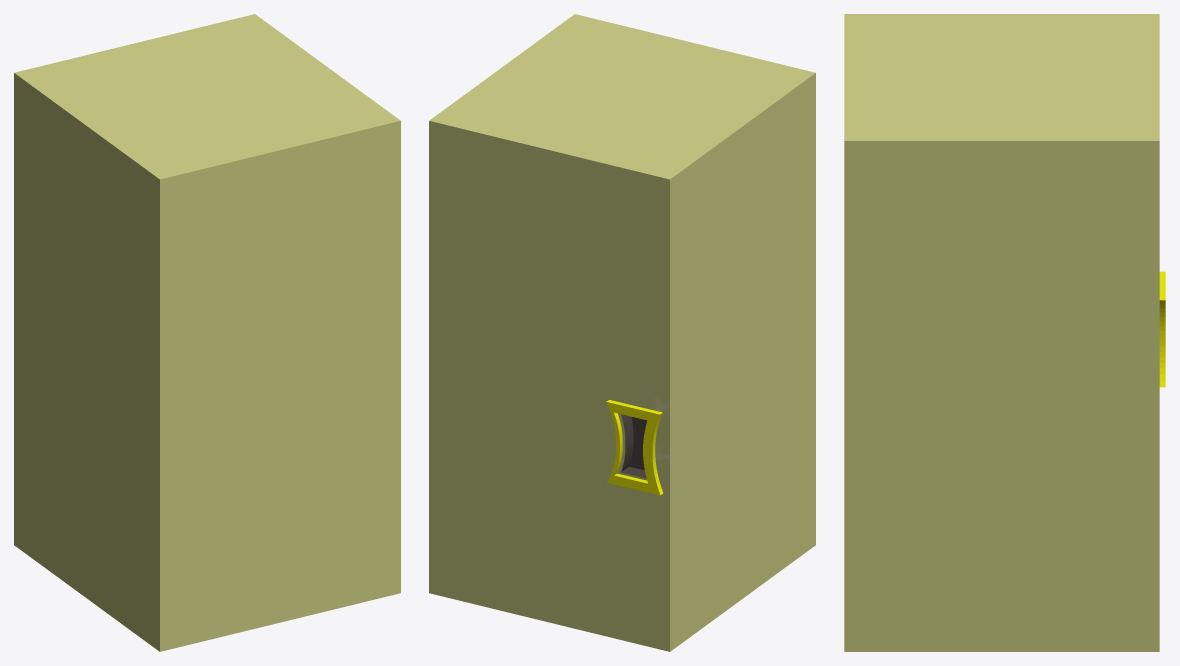
File: LeftGoal.obj
3 renders of one model, left to right at view 1: azimuth 30°, elevation 25°; view 2: azimuth 150°, elevation 25°; view 3: azimuth 270°, elevation 25°, orthographic. The views are drawn at different scales.
Visible parts, largest first — view 1: 立方体.001; view 2: 立方体.001; view 3: 立方体.001.
Part boxes in pixels (x1,y1,x2,y2): 立方体.001: [14, 14, 400, 651]; 立方体.001: [429, 14, 815, 651]; 立方体.001: [844, 14, 1165, 651].
Size of the model in its own units: 0.9653 by 1.81 by 1.03.
Materials: 1 (1 with a texture image).
